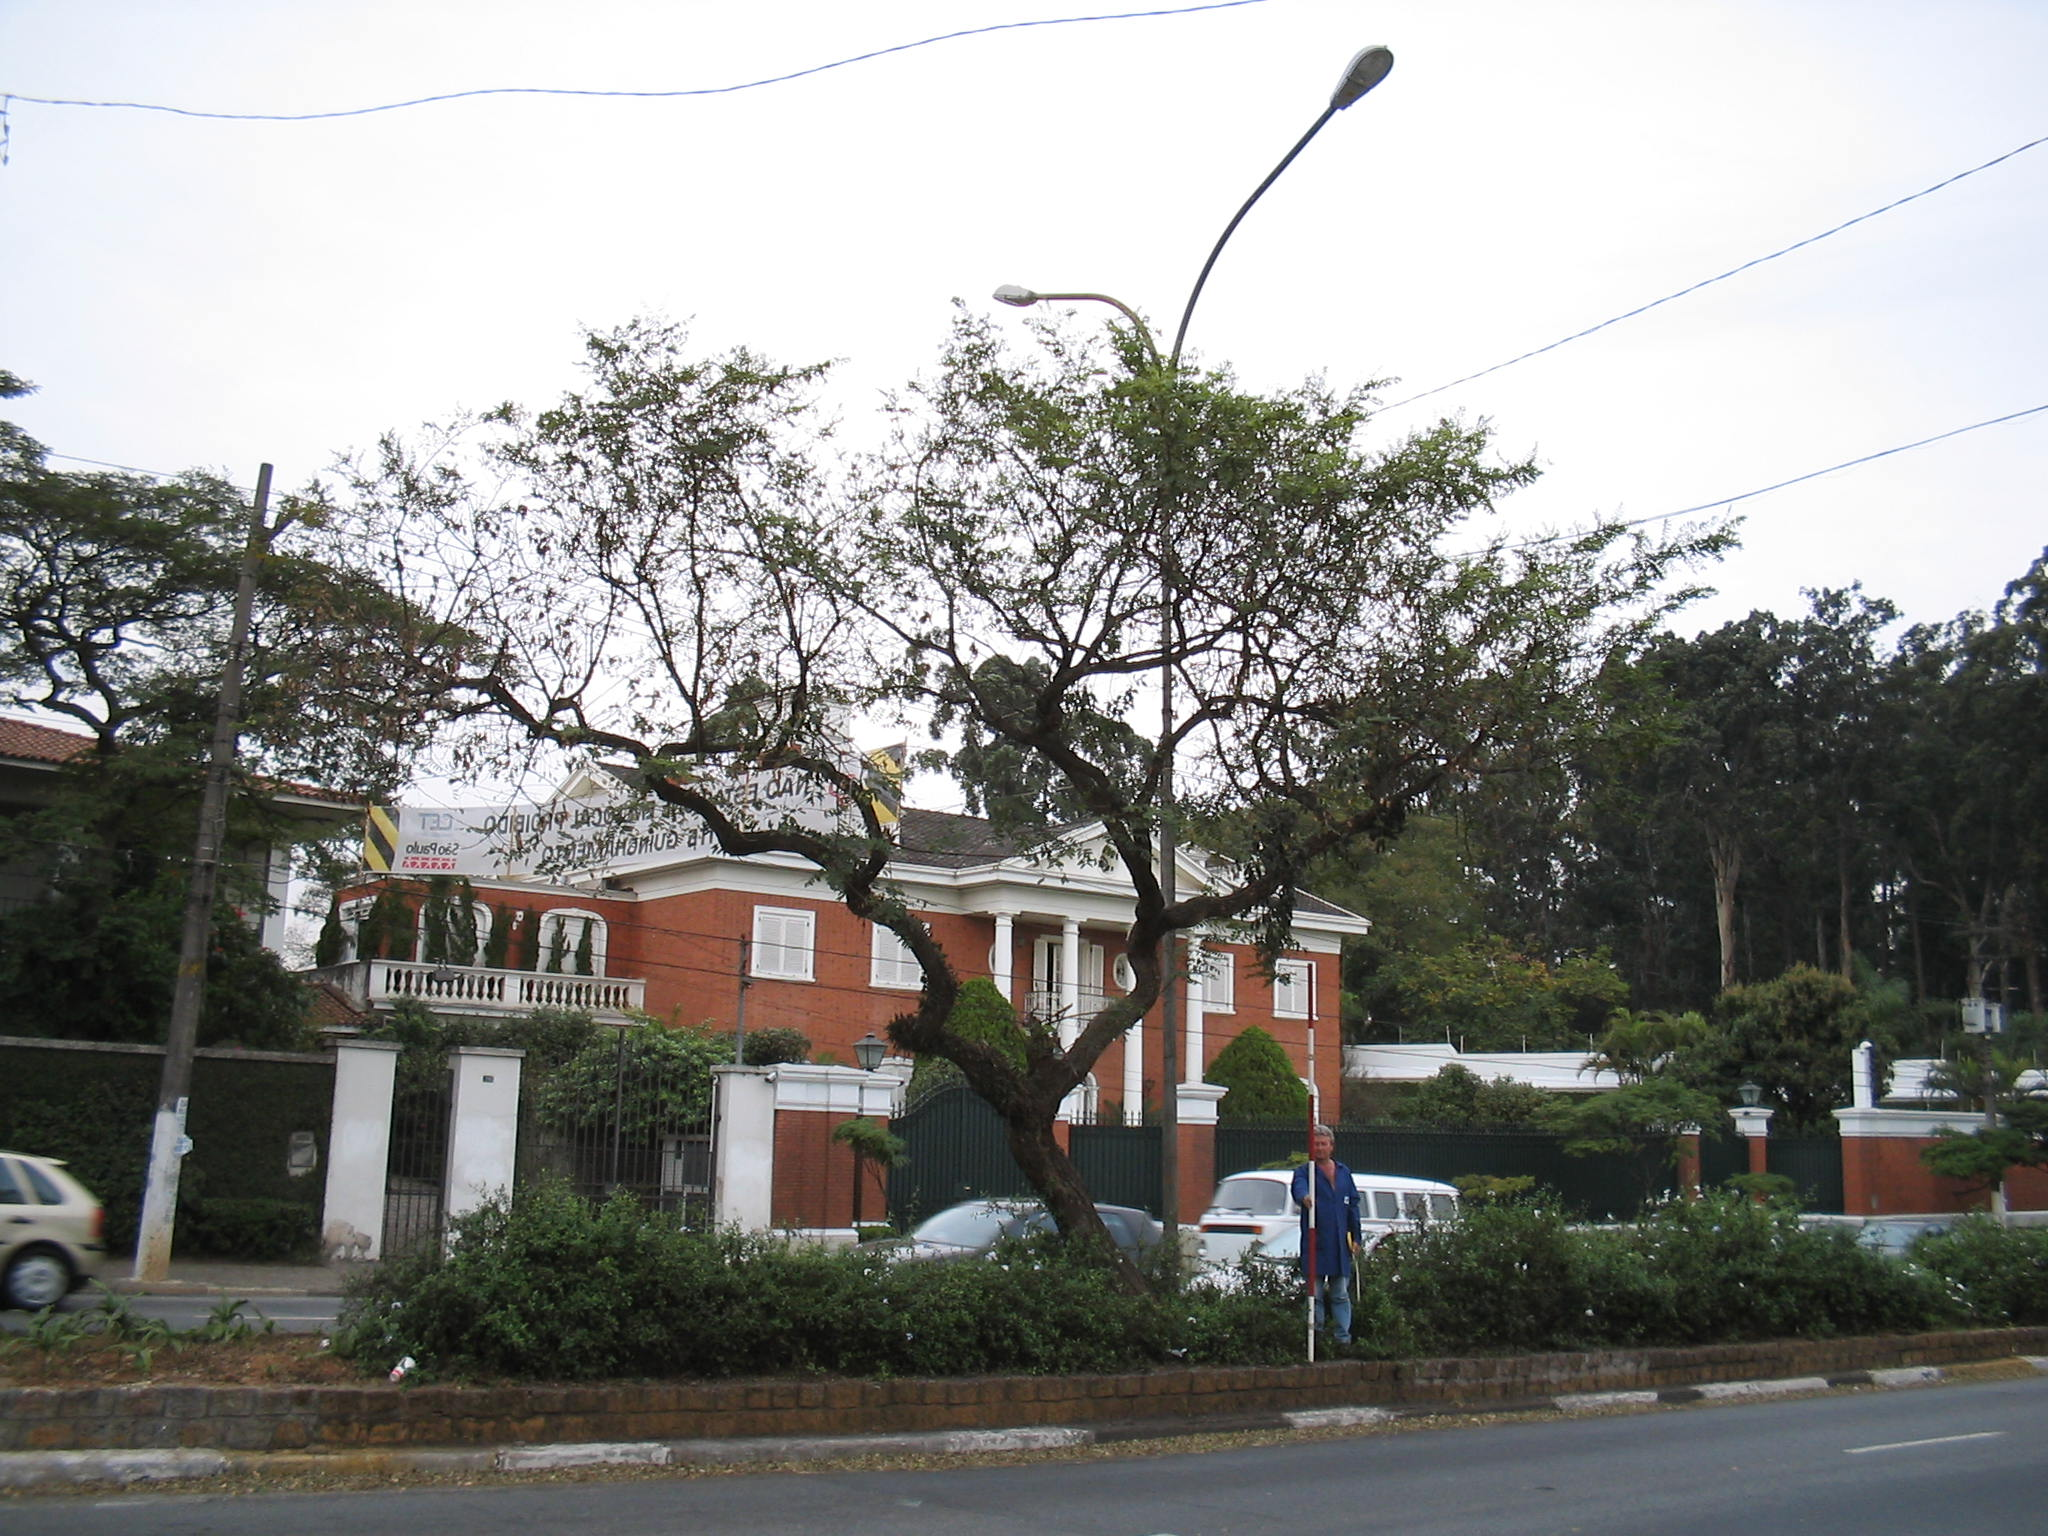crown: (314, 298, 1735, 970)
stem: (974, 1100, 1168, 1363)
stick: (1284, 962, 1338, 1362)
tree: (306, 298, 1742, 1368)
